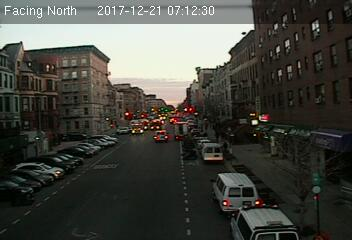police: (230, 201, 299, 240)
truck: (210, 173, 262, 213), (200, 142, 224, 163), (154, 130, 168, 143)
